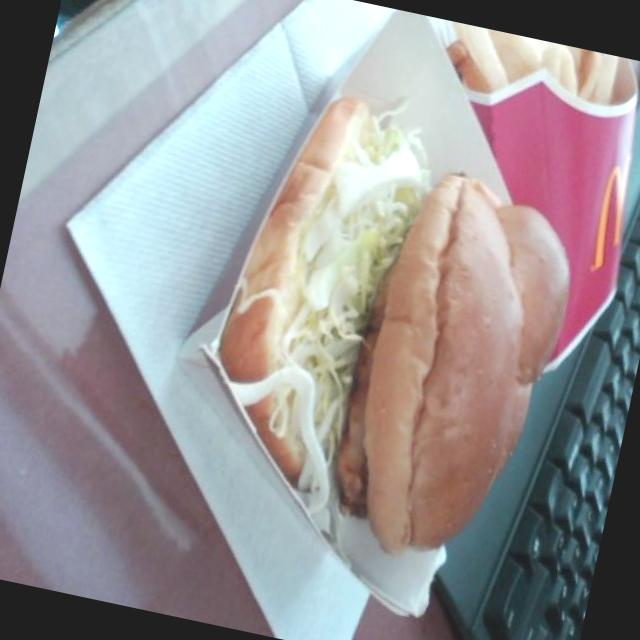Hamburger: (230, 103, 578, 566)
